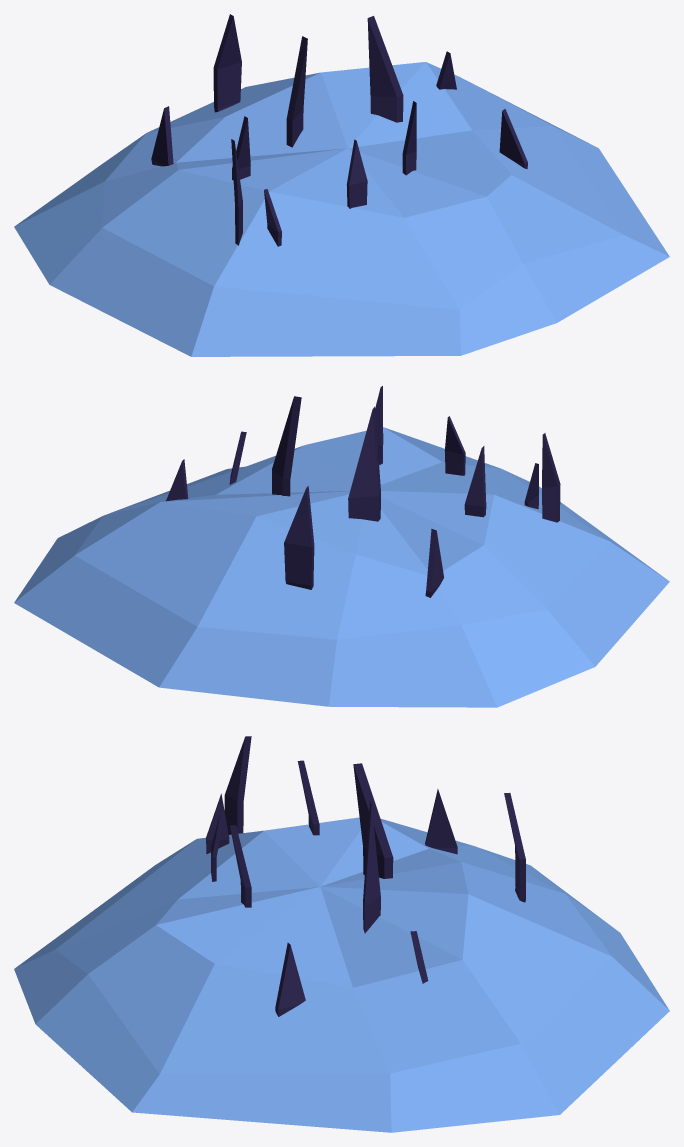
Rendered from Snow_Heap_With_Grass.fbx.
3 views of the same model, one above another, from view 1: azimuth 30°, elevation 25°; view 2: azimuth 150°, elevation 25°; view 3: azimuth 270°, elevation 25° (orthographic). The views are drawn at different scales.
Parts seen in each view (by area): view 1: Snow_heap_with_grass; view 2: Snow_heap_with_grass; view 3: Snow_heap_with_grass.
Boxes of the visible parts, x1,y1,x2,y2 form: Snow_heap_with_grass: (14, 14, 669, 356); Snow_heap_with_grass: (14, 386, 669, 707); Snow_heap_with_grass: (14, 736, 669, 1132).
Size of the model in its own units: 23.34 by 8.26 by 22.75.
